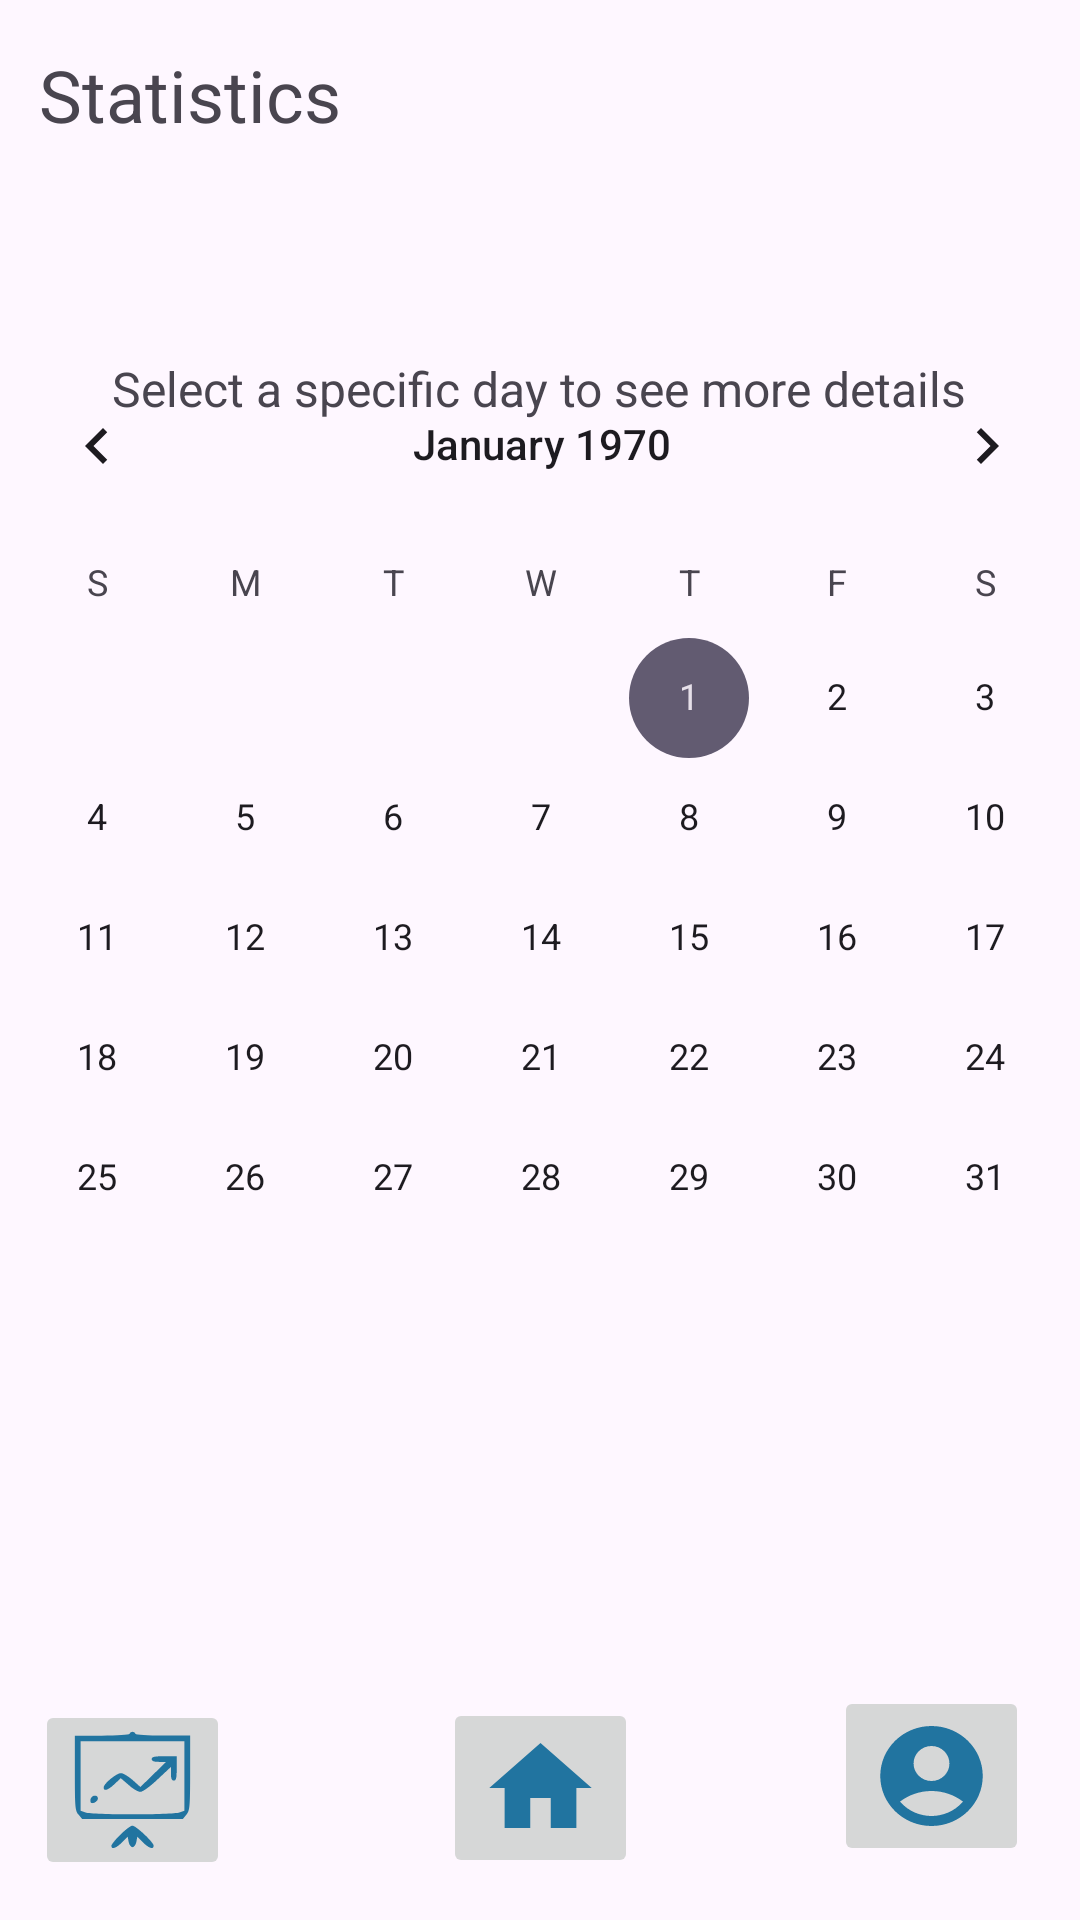

Icon click points for this 1080×1920 phone screenshot, format point (x, y):
account circle: point (931, 1776)
home: point (540, 1788)
statistics: point (132, 1790)
